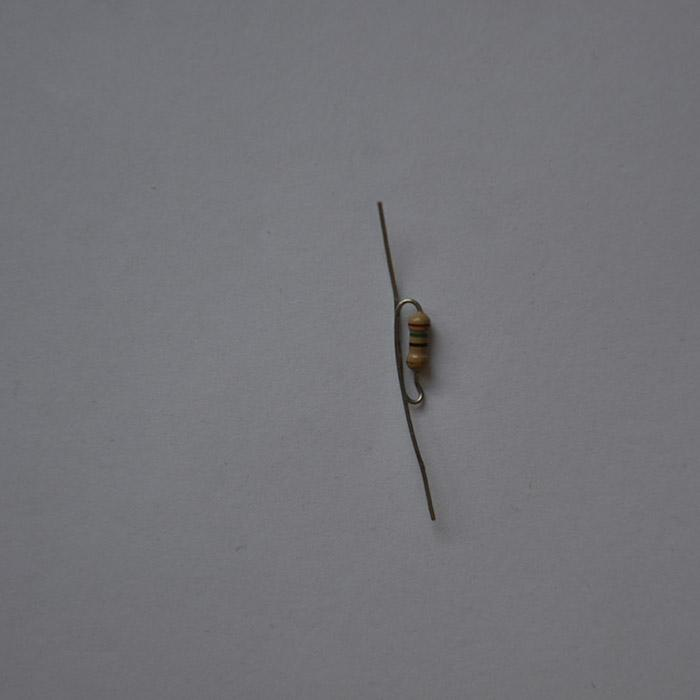resistor: (406, 311, 431, 370)
